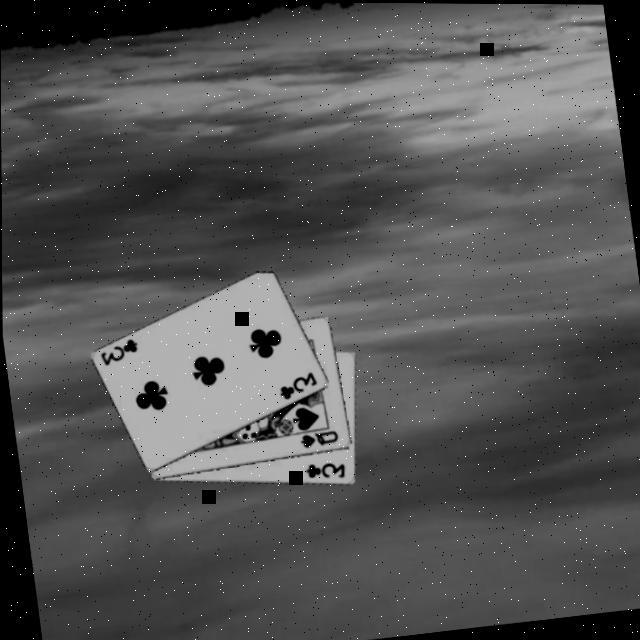3C: (273, 369, 319, 404), (95, 336, 141, 370), (300, 458, 348, 486)
QS: (296, 429, 340, 453)
